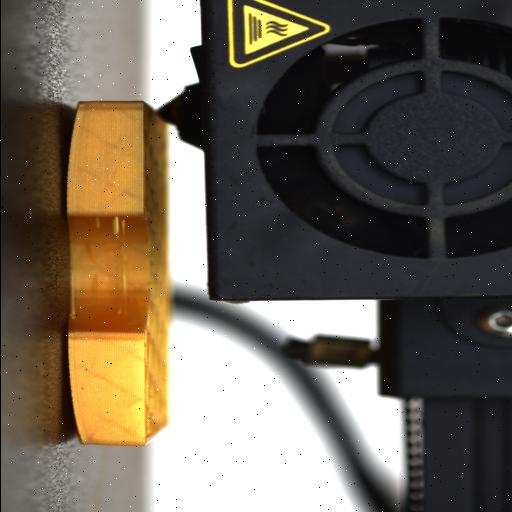warp: (64, 328, 94, 452), (62, 98, 88, 216)
